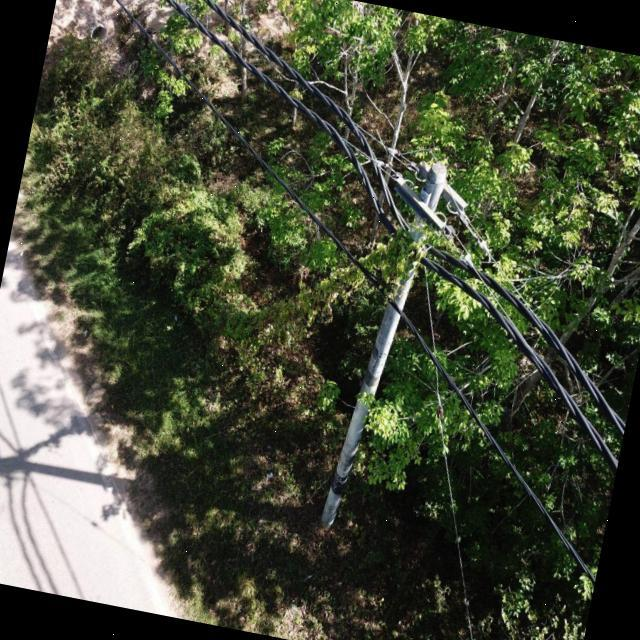critical vegetation: (232, 175, 449, 372)
